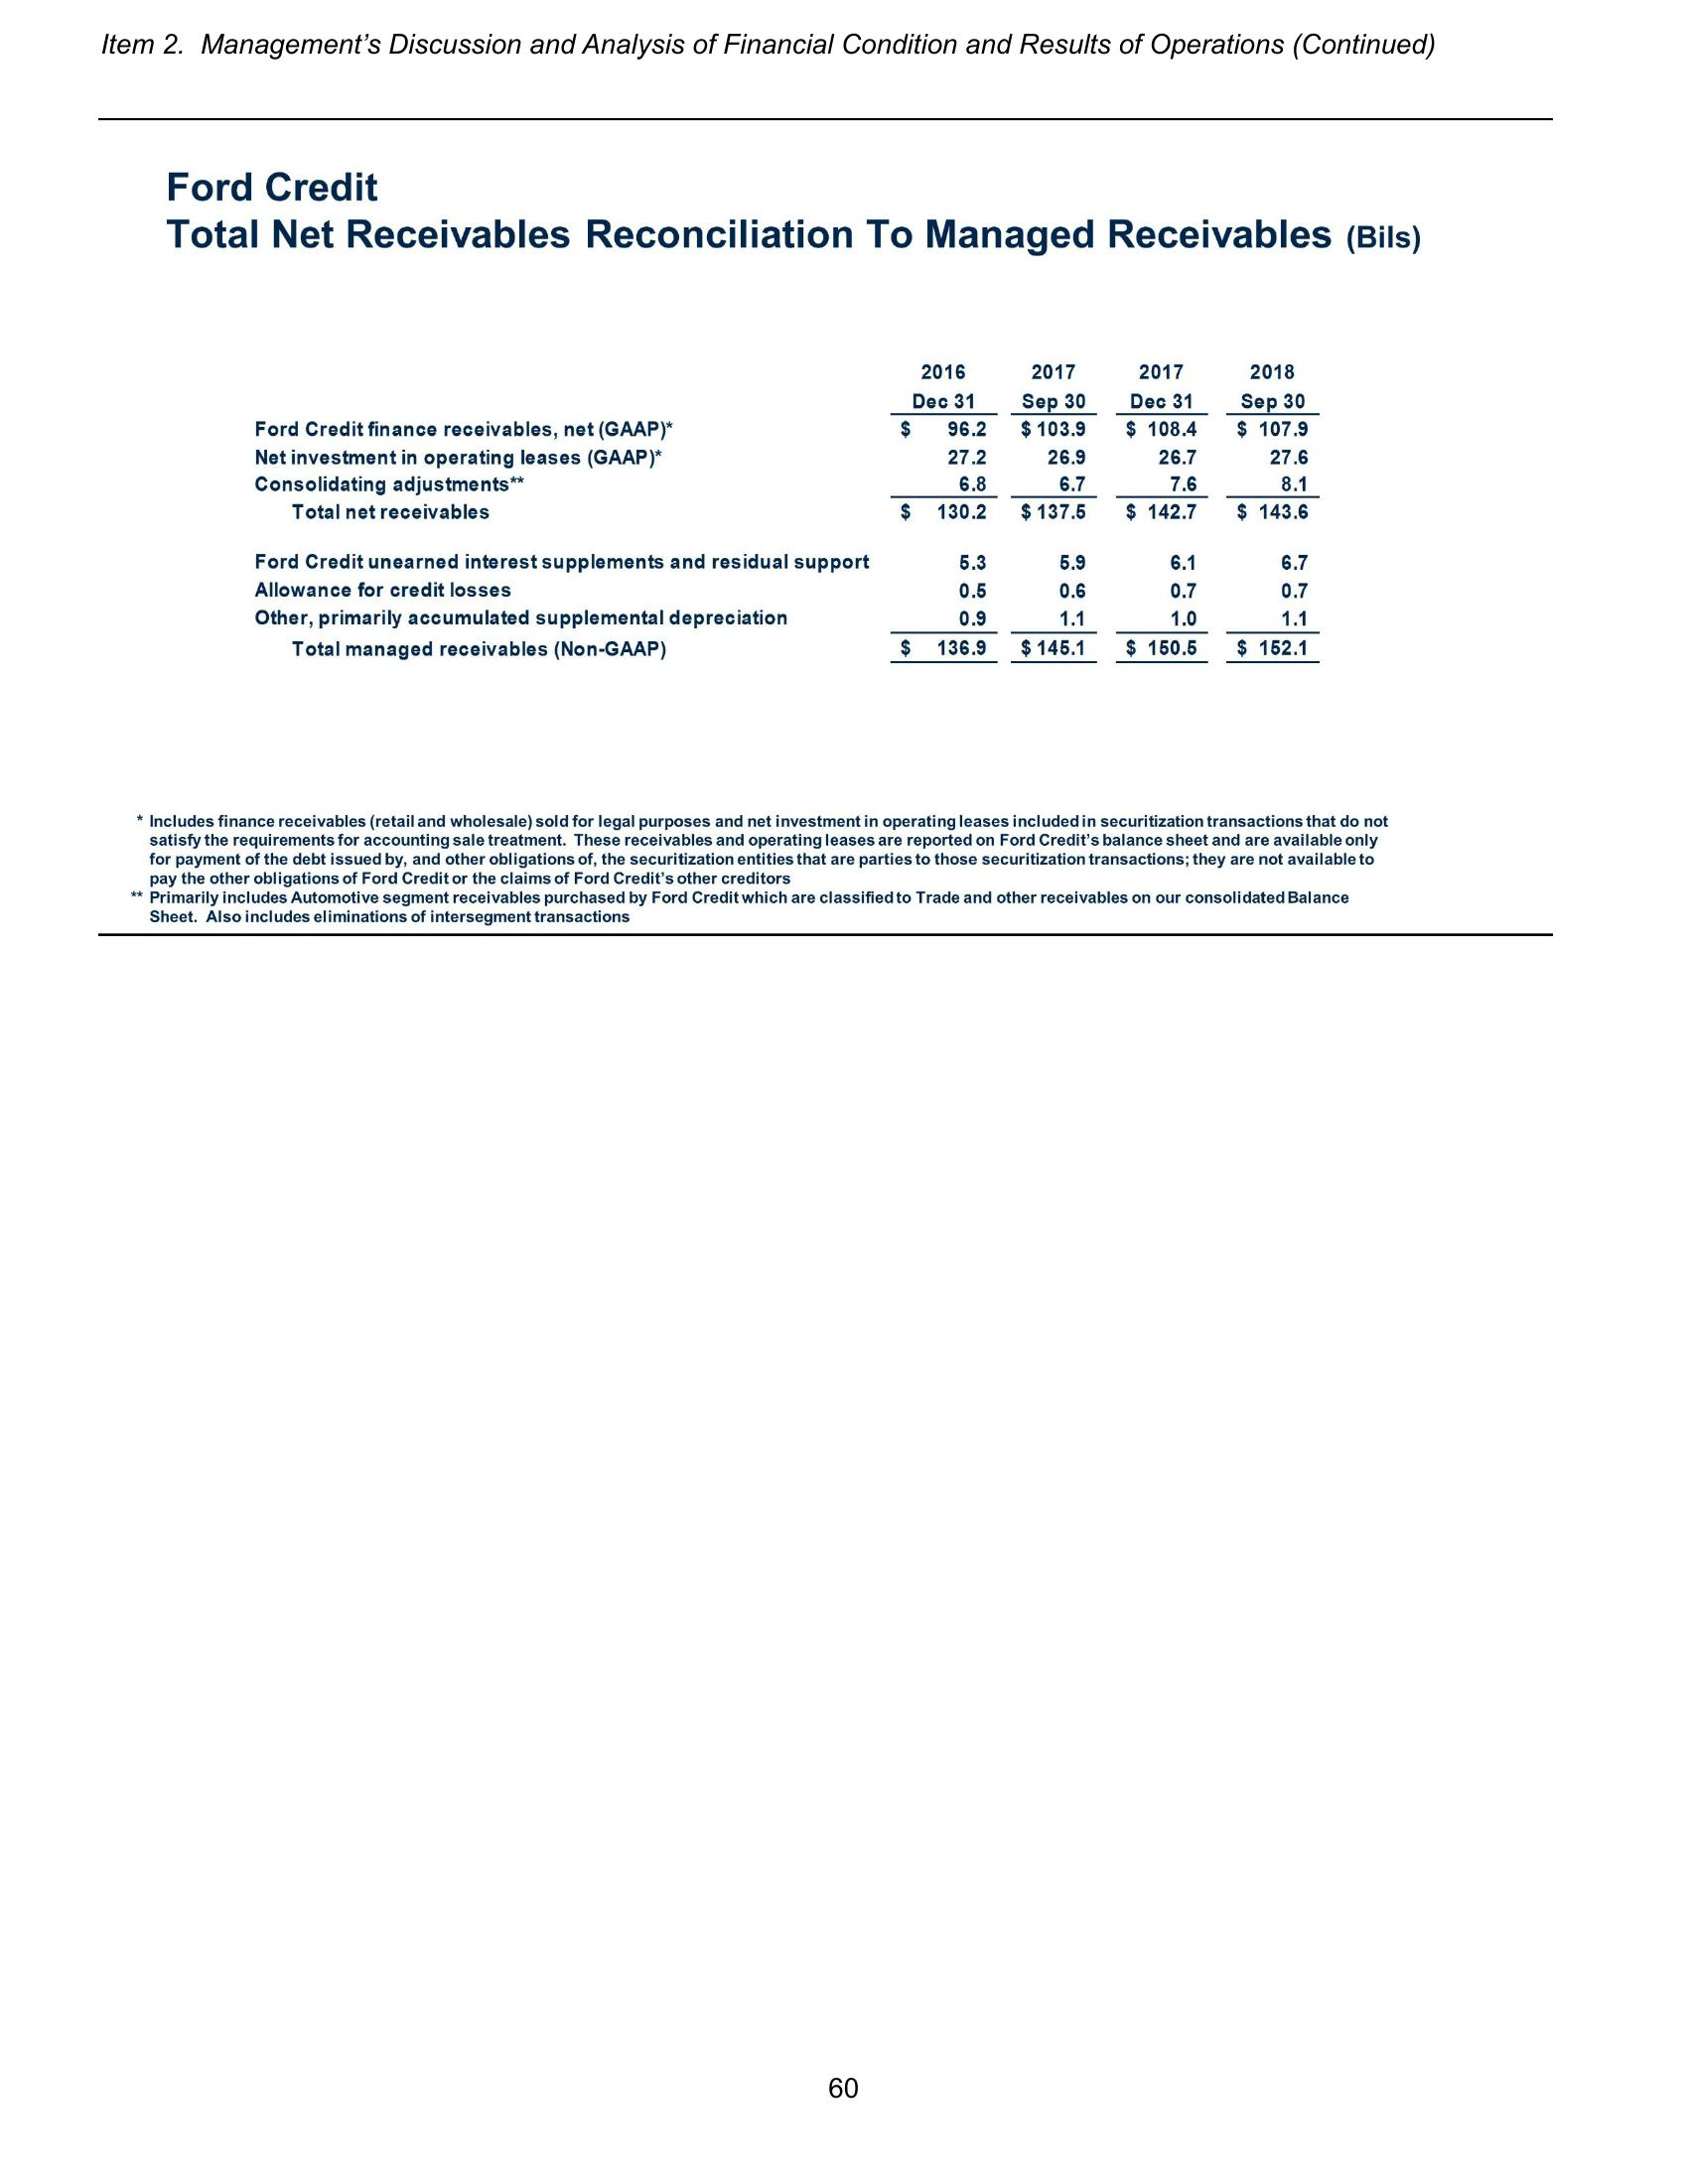table: (245, 346, 1323, 667)
